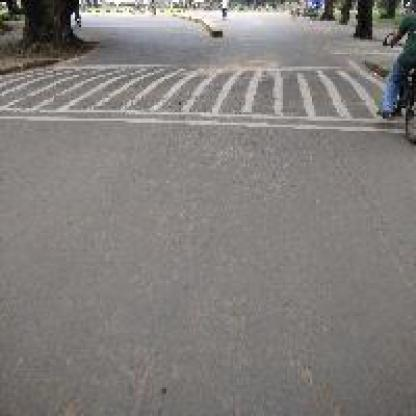Speed Bump: (0, 54, 377, 132)
